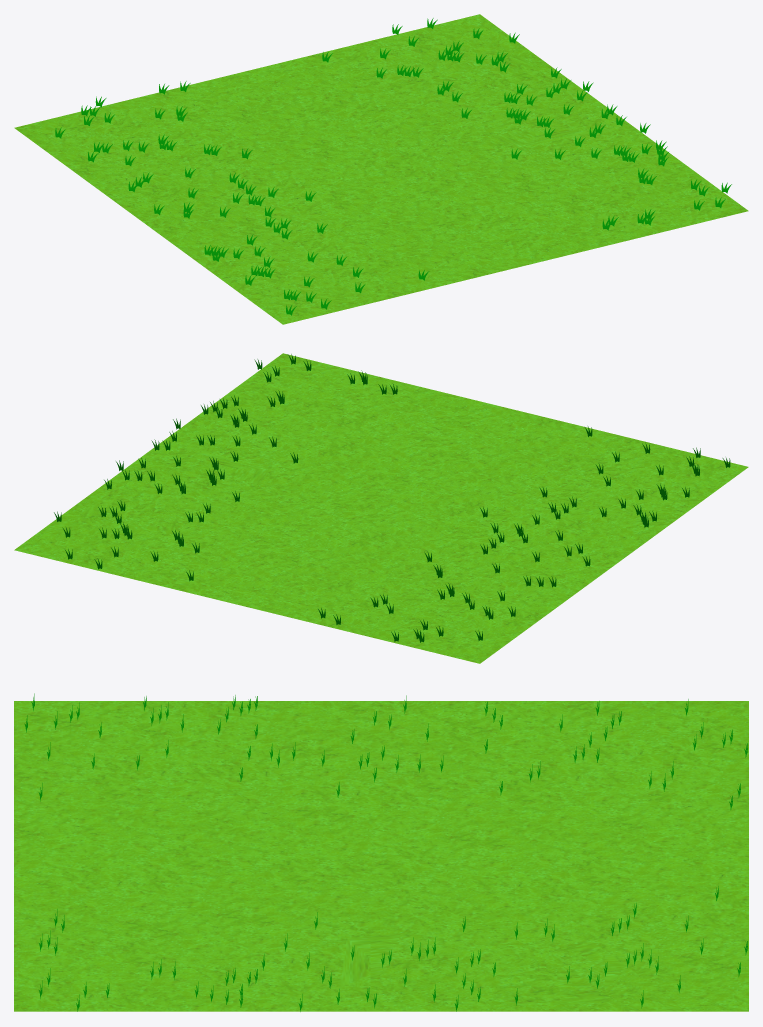
Rendered from ground.obj.
The picture shows the model from 3 angles, top to bottom: view 1: azimuth 30°, elevation 25°; view 2: azimuth 150°, elevation 25°; view 3: azimuth 270°, elevation 25°; orthographic projection. The views are drawn at different scales.
Parts seen in each view (by area): view 1: 平面.005, 平面.001; view 2: 平面.005, 平面.001; view 3: 平面.005, 平面.001.
Boxes of the visible parts, bbox=[...] form: 平面.005: bbox=[14, 14, 748, 324]; 平面.001: bbox=[55, 18, 731, 315]; 平面.005: bbox=[14, 353, 748, 663]; 平面.001: bbox=[54, 354, 730, 642]; 平面.005: bbox=[14, 701, 748, 1011]; 平面.001: bbox=[24, 693, 747, 1011].
Size of the model in its own units: 74.98 by 1.83 by 74.
